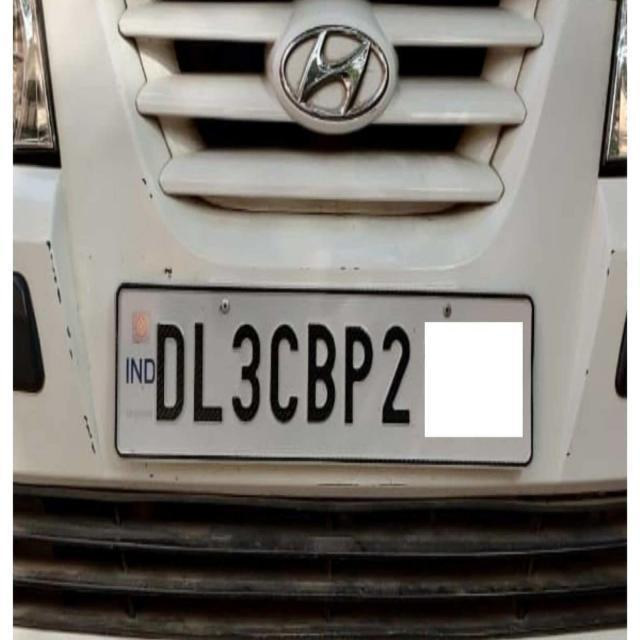License_Plate: (111, 282, 538, 467)
